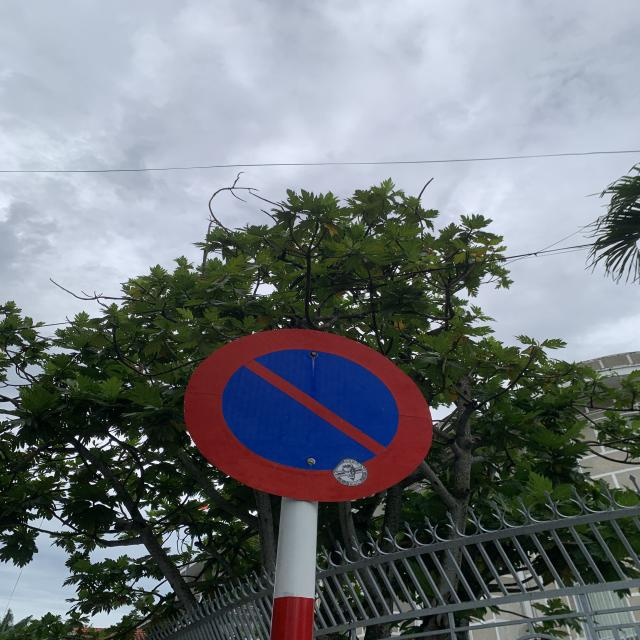Cam_Dau_Xe: (182, 324, 433, 500)
